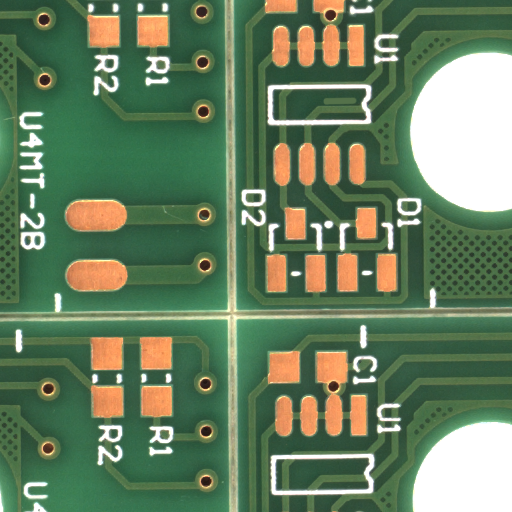Spurious_copper: (337, 100, 376, 109)
